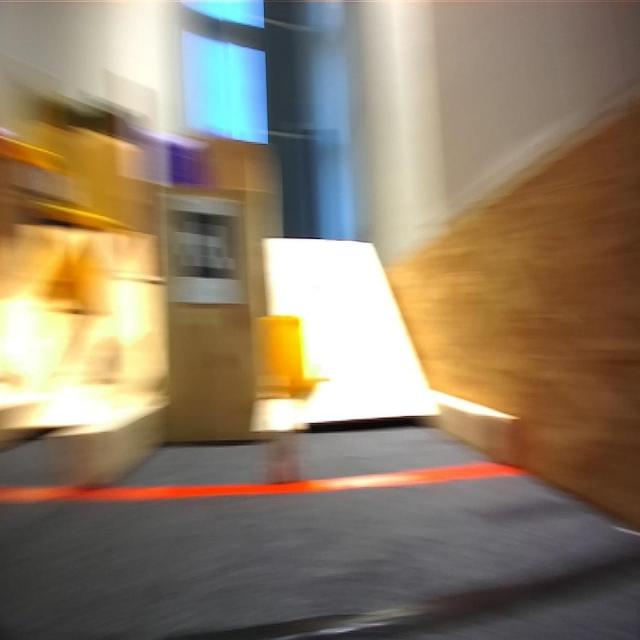frc_cone: (51, 126, 131, 233), (252, 304, 321, 405)
frc_cube: (149, 125, 219, 195)
